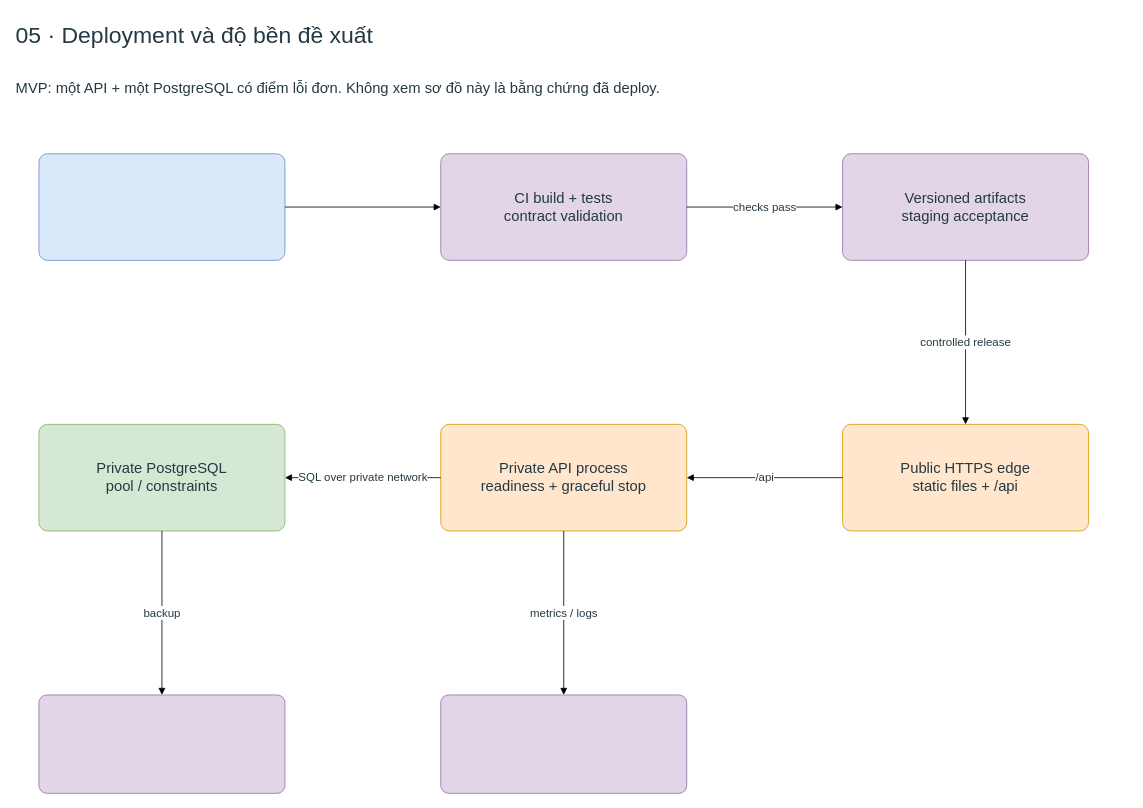
This 1143x808 diagram has some shape labels left out. Here are the shapes that lost their labels. From the top down, the centre of each, then its label:
[161,206]: Commit / pull request
[161,743]: Encrypted backup storage restore / RPO / RTO drill
[563,743]: Redacted telemetry latency / lock / errors
